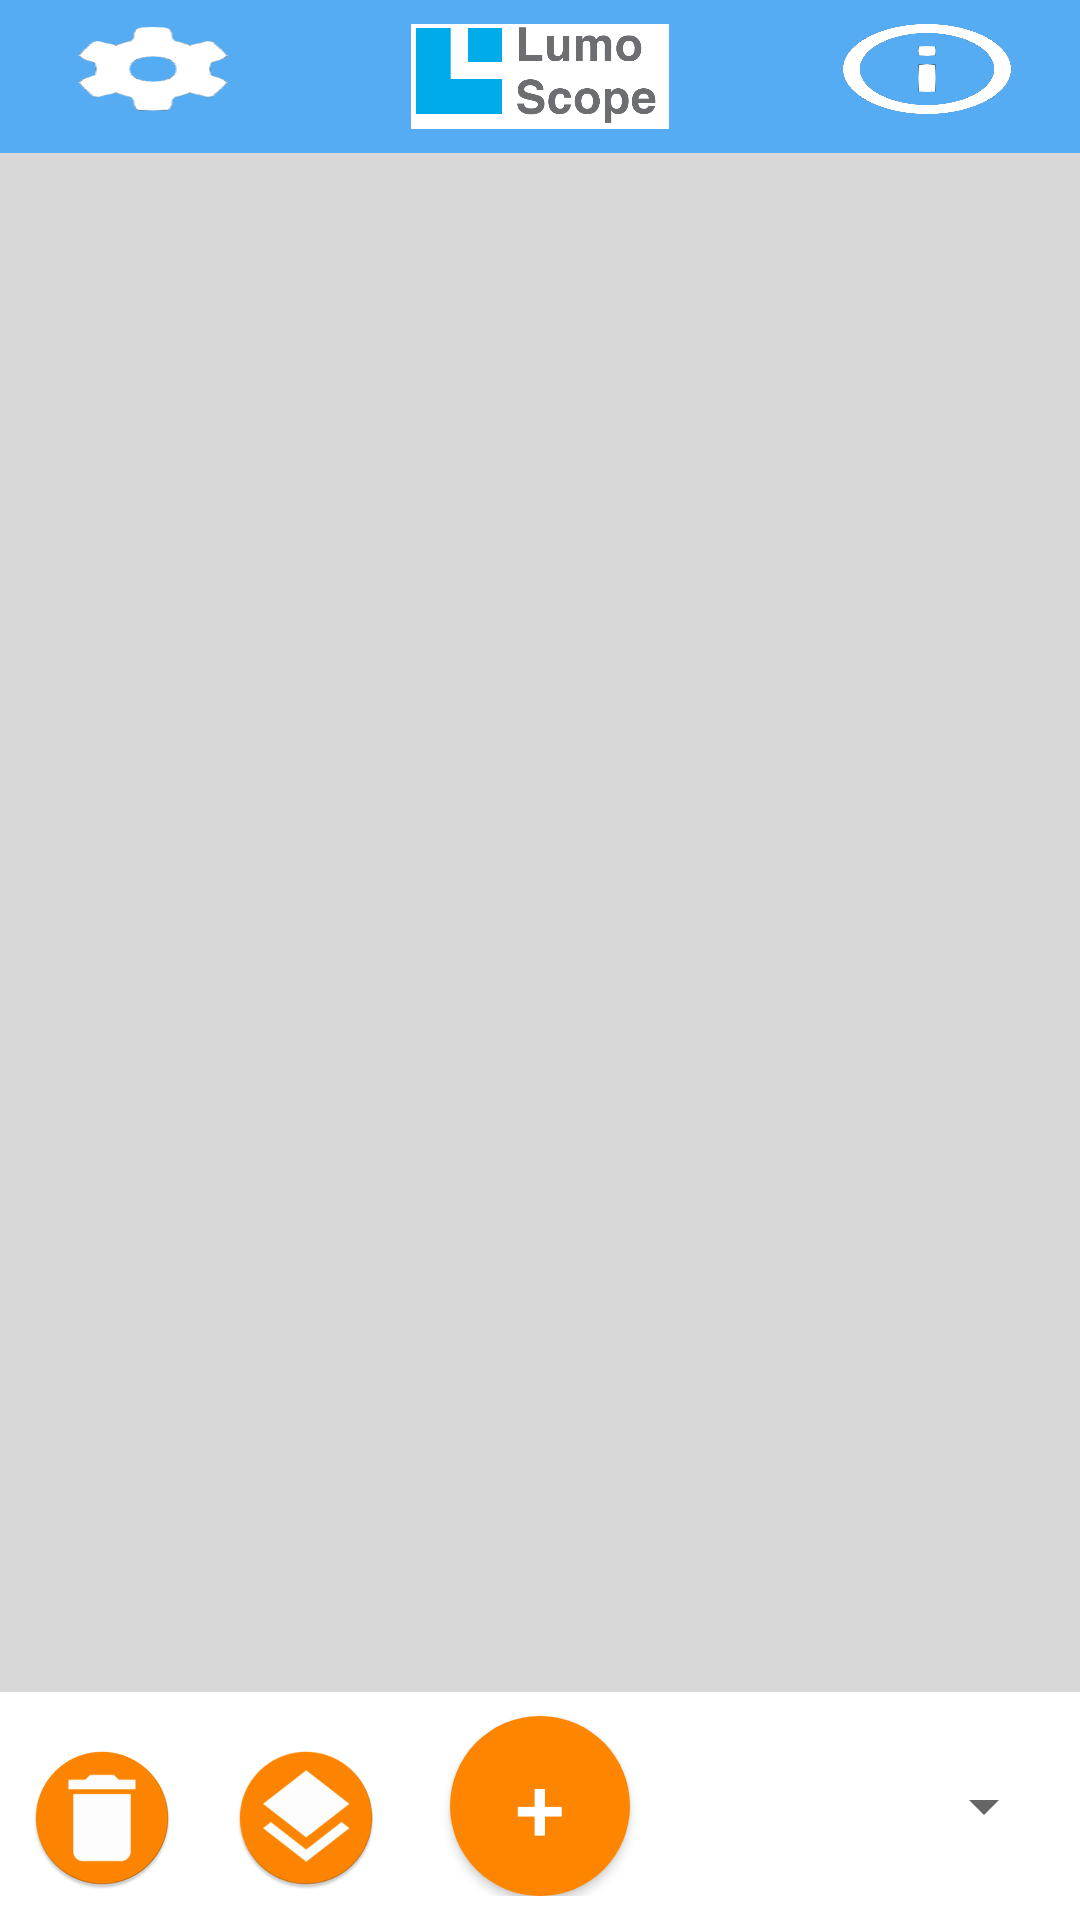

Locate icon controls on the screen. Image size 1080px x 1920px, boxes as [x1, y1, x2, y2].
deletebutton round: [35, 1751, 169, 1887]
info: [843, 24, 1011, 114]
settings: [78, 27, 228, 111]
stack round: [239, 1751, 373, 1887]
